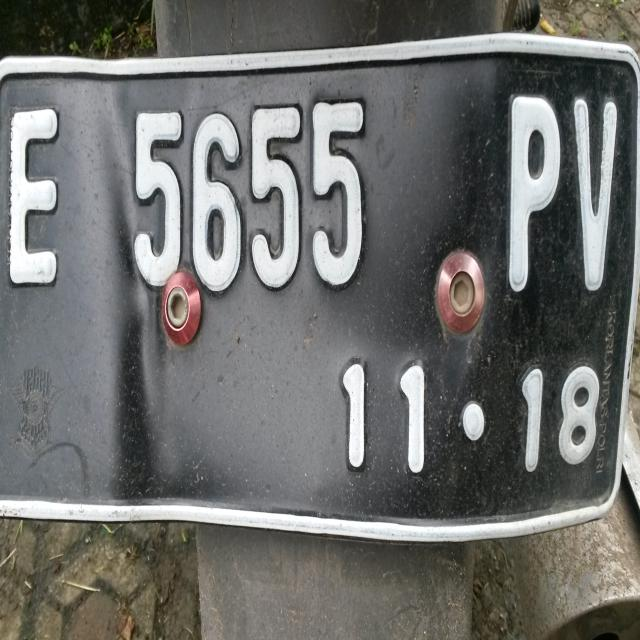plate: (1, 49, 640, 540)
